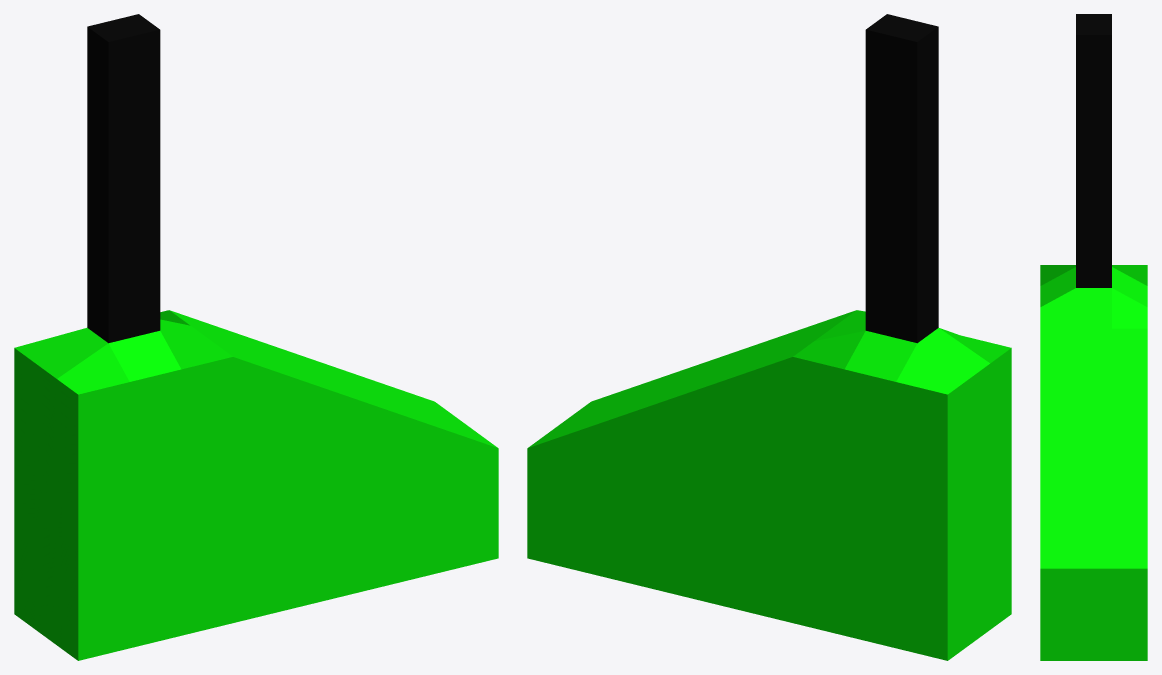
Rendered from antenna.gltf.
3 renders of one model, left to right at view 1: azimuth 30°, elevation 25°; view 2: azimuth 150°, elevation 25°; view 3: azimuth 270°, elevation 25°, orthographic. The views are drawn at different scales.
Parts seen in each view (by area): view 1: cuboid; view 2: cuboid; view 3: cuboid.
Part boxes in pixels (x1,y1,x2,y2): cuboid: (14, 14, 498, 660); cuboid: (527, 14, 1011, 660); cuboid: (1040, 14, 1147, 660).
Size of the model in its own units: 1.19 by 1.59 by 0.3125.
Materials: 1 (1 with a texture image).
